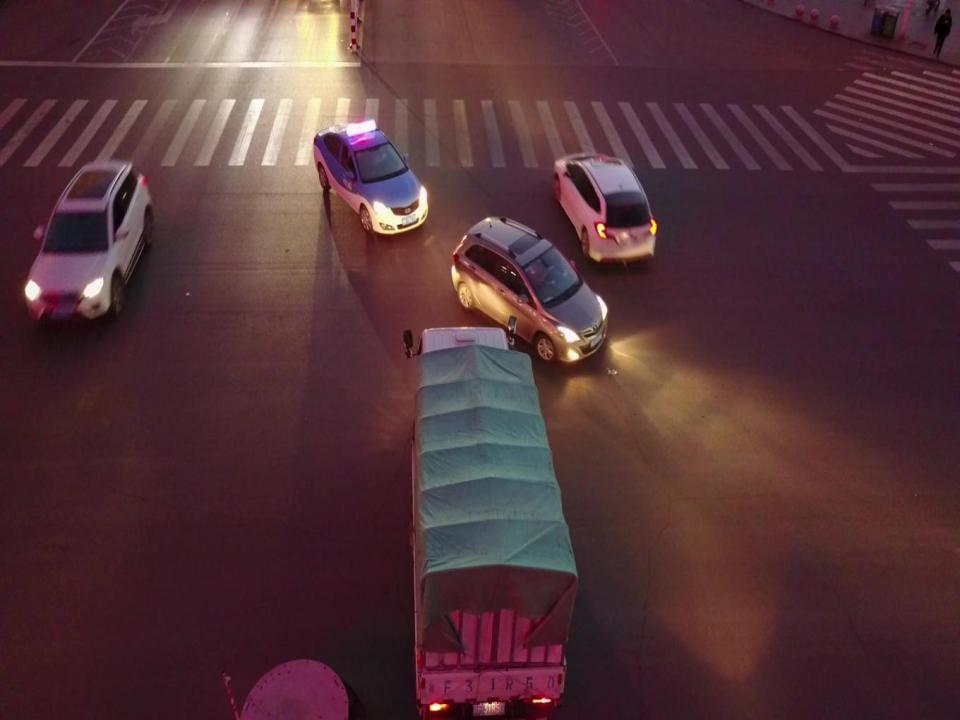car: (450, 208, 614, 362), (25, 159, 155, 319), (307, 122, 432, 239), (556, 147, 660, 266)
truck: (399, 319, 576, 716)
